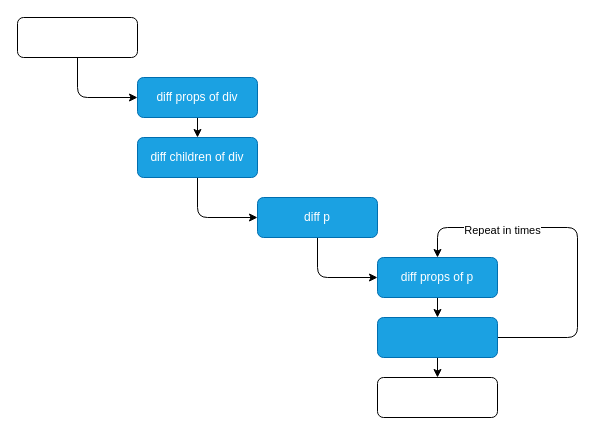
The diagram is 603 pixels wide and 435 high, and some of its shapes have lost their labels. The shapes that lost their labels are listed below. From the top down, each one's centre as x and y in pixels, then its label:
At point 77,37: "diff div".
At point 437,337: "diff children of p".
